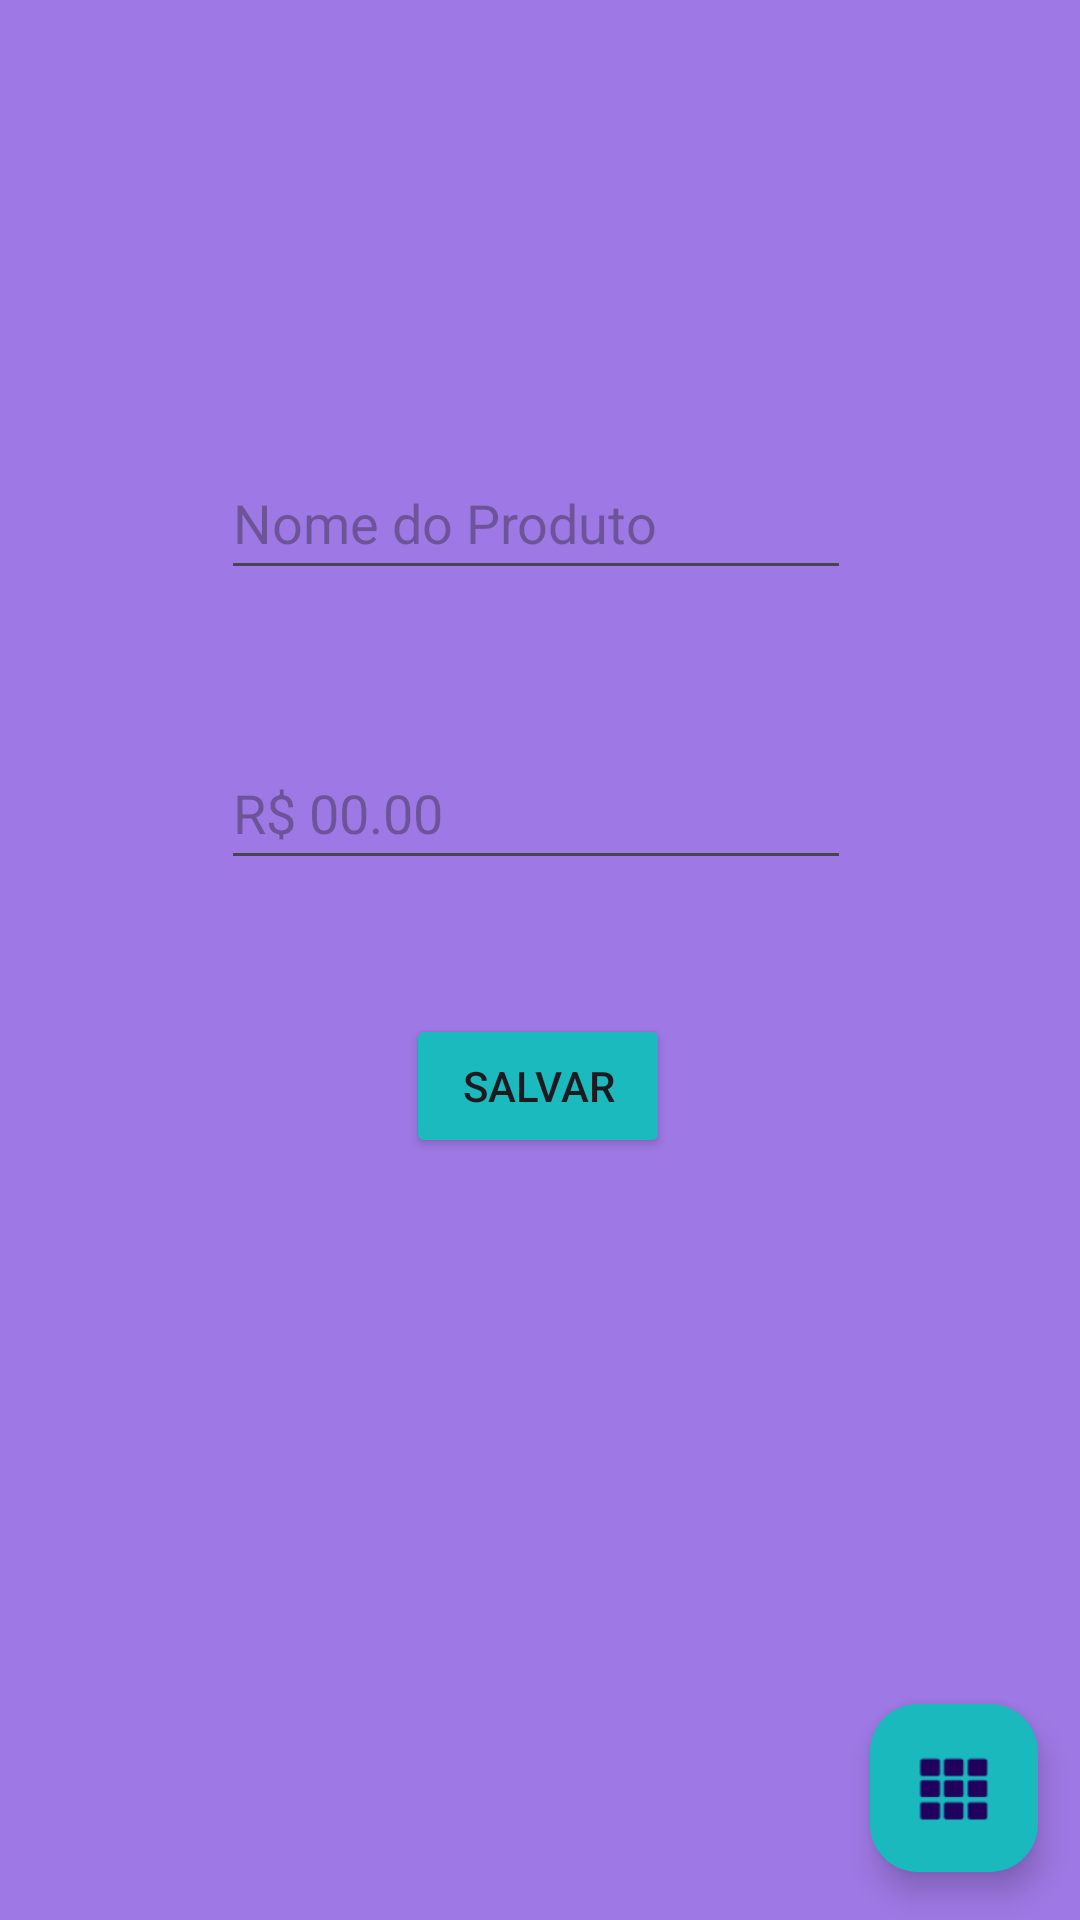

Icons on this 1080 x 1920 Android screen, each with its box as [left=x1, top=y1, right=x2, bottom=y2]:
Listar Produtos: [left=870, top=1704, right=1038, bottom=1872]
